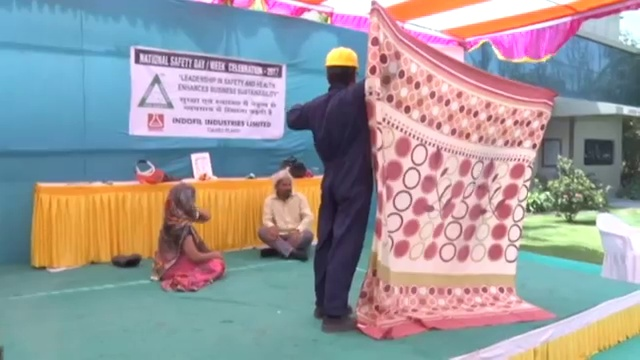helmet: (325, 46, 359, 70)
helmet_off: (271, 168, 295, 202), (170, 181, 196, 208)
helmet_on: (322, 44, 361, 85)
person: (288, 44, 370, 332), (157, 182, 224, 289), (255, 165, 314, 260)
